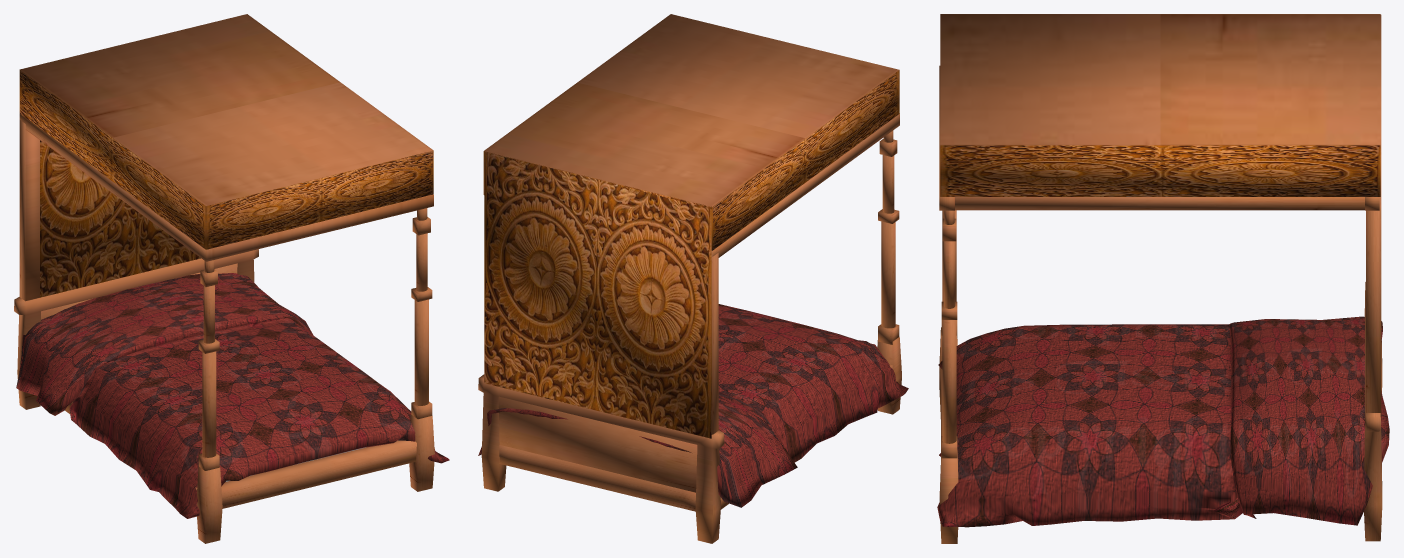
File: Medieval 4 post bed.fbx
3 views of the same model, side by side, from view 1: azimuth 30°, elevation 25°; view 2: azimuth 150°, elevation 25°; view 3: azimuth 270°, elevation 25° (orthographic). The views are drawn at different scales.
Visible parts, largest first — view 1: Object.035, Object.048, Object.028, Object.034, Object.033, Object.046, Object.044, Object.038, Object.036, Object.042, Object.043; view 2: Object.034, Object.035, Object.048, Object.028, Object.044, Object.038, Object.033, Object.043; view 3: Object.048, Object.035, Object.045, Object.028, Object.032, Object.036, Object.034, Object.042.
Boxes of the visible parts, box(x1,y1,x2,y2) form: Object.035: box(19, 14, 433, 249); Object.048: box(16, 273, 449, 518); Object.028: box(14, 249, 434, 543); Object.034: box(40, 140, 200, 297); Object.033: box(19, 120, 39, 301); Object.046: box(206, 194, 433, 261); Object.044: box(19, 114, 205, 261); Object.038: box(202, 351, 216, 457); Object.036: box(414, 299, 428, 405); Object.042: box(416, 233, 427, 291); Object.043: box(203, 285, 214, 343); Object.034: box(484, 151, 712, 438); Object.035: box(483, 14, 899, 250); Object.048: box(478, 304, 908, 507); Object.028: box(478, 337, 901, 543); Object.044: box(712, 114, 899, 257); Object.038: box(881, 221, 895, 328); Object.033: box(712, 253, 718, 434); Object.043: box(882, 155, 894, 213); Object.048: box(937, 316, 1389, 527); Object.035: box(940, 14, 1380, 196); Object.045: box(955, 197, 1364, 210); Object.028: box(939, 282, 1382, 543); Object.032: box(1366, 210, 1379, 412); Object.036: box(942, 320, 956, 443); Object.034: box(1379, 15, 1381, 416); Object.042: box(943, 241, 955, 308).
Size of the model in its own units: 21237 by 25057 by 25736.
